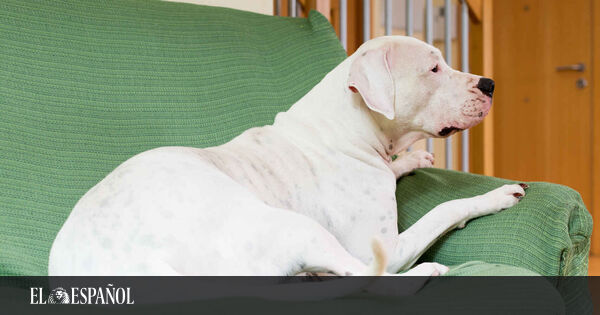dog: (45, 33, 539, 273)
